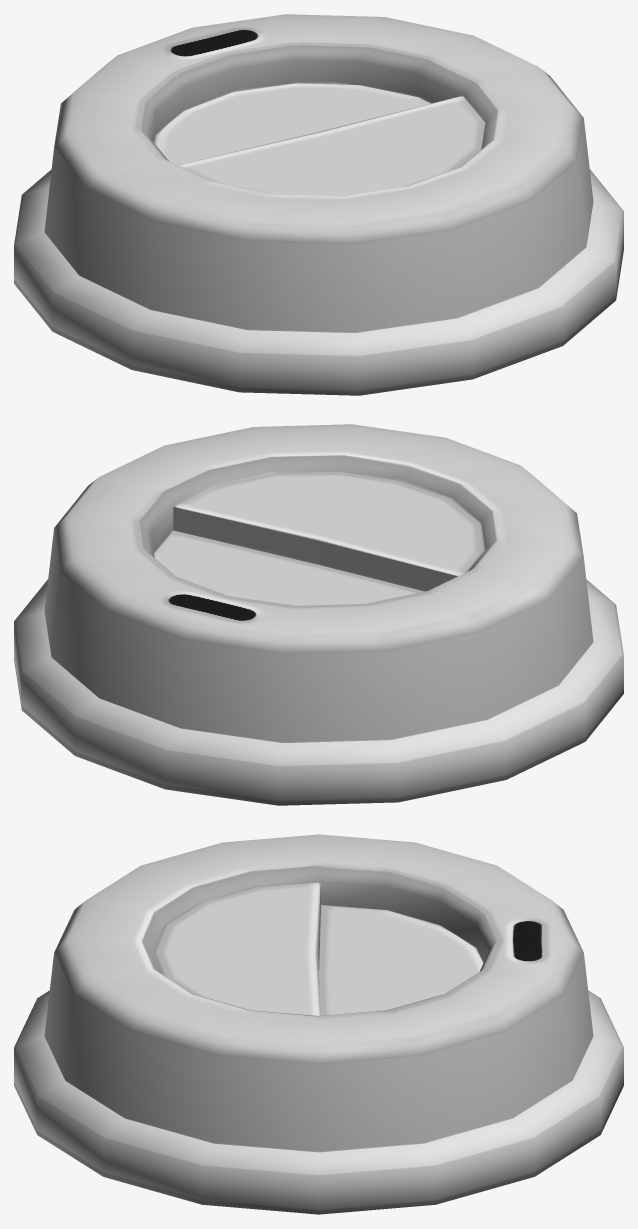
Rendered from ToGo_Lid_02.fbx.
3 renders of one model, top to bottom at view 1: azimuth 30°, elevation 25°; view 2: azimuth 150°, elevation 25°; view 3: azimuth 270°, elevation 25°, orthographic.
Parts seen in each view (by area): view 1: ToGo_Lid_02; view 2: ToGo_Lid_02; view 3: ToGo_Lid_02.
Boxes of the visible parts, box(x1,y1,x2,y2) form: ToGo_Lid_02: box(14, 14, 623, 395); ToGo_Lid_02: box(14, 424, 623, 805); ToGo_Lid_02: box(14, 834, 623, 1214).
Bounding box in the file's own units: 40.9 × 10.72 × 40.9.
